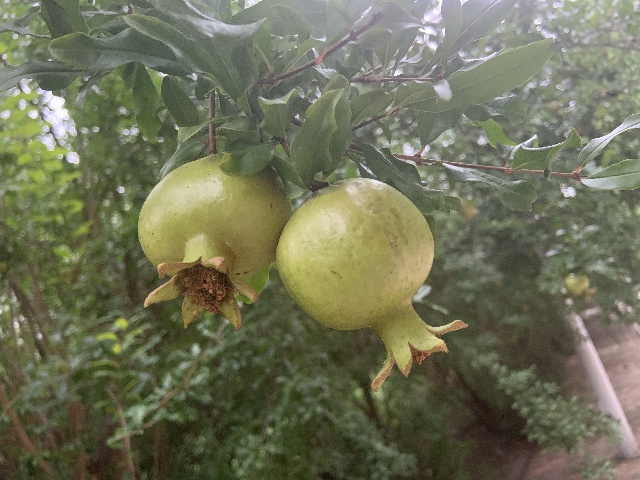mid-growth: (276, 178, 469, 392), (137, 153, 290, 332), (564, 273, 596, 301)
